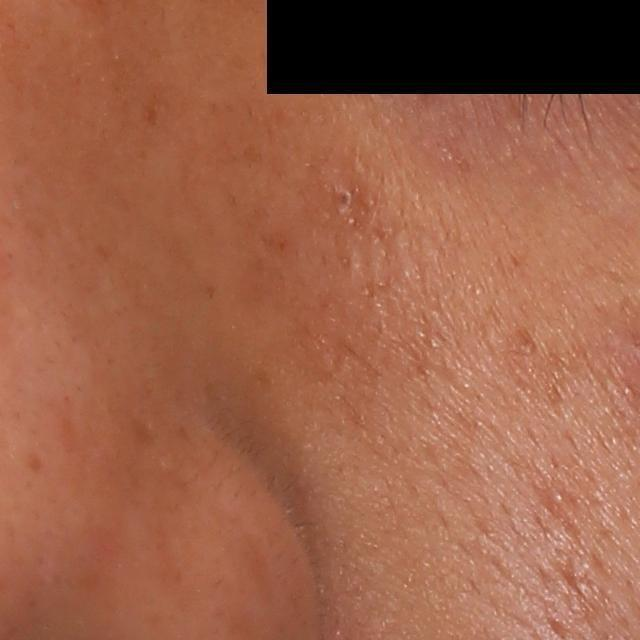comedo: (328, 182, 359, 218)
